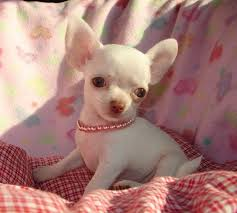chihuahua: (31, 9, 201, 199)
